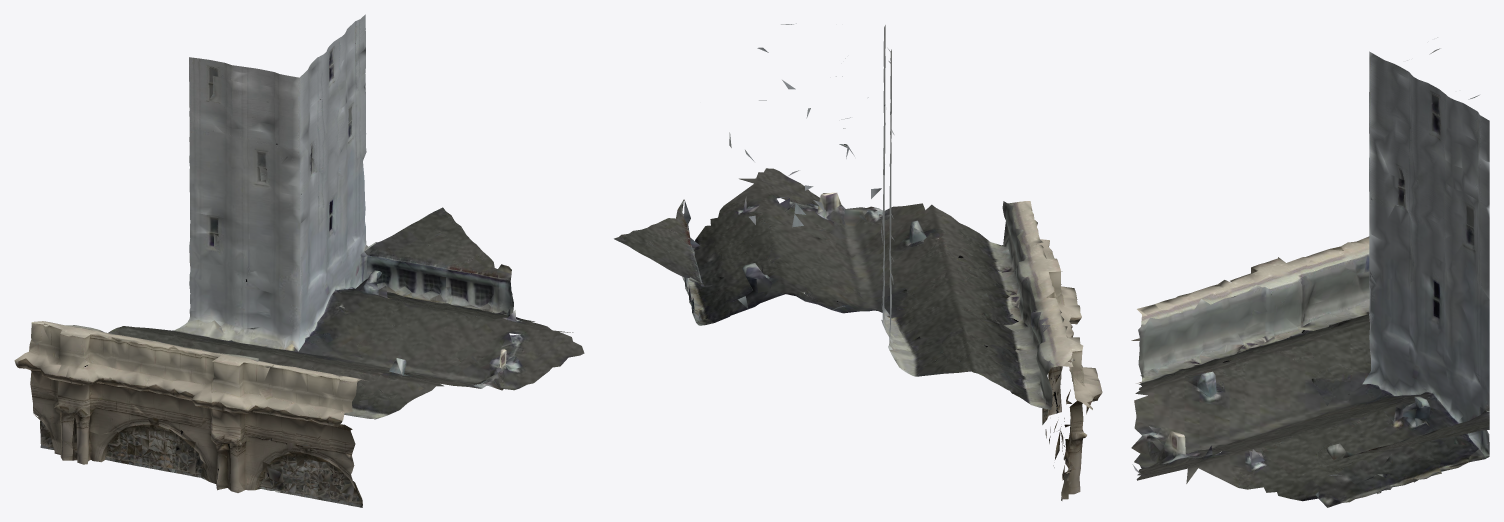
3 renders of one model, left to right at view 1: azimuth 30°, elevation 25°; view 2: azimuth 150°, elevation 25°; view 3: azimuth 270°, elevation 25°, orthographic. The views are drawn at different scales.
Bounding box in the file's own units: 28.15 × 21.7 × 16.06.
1 material, 1 textured.
